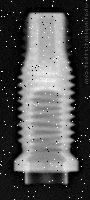Neodent: (13, 11, 79, 185)
